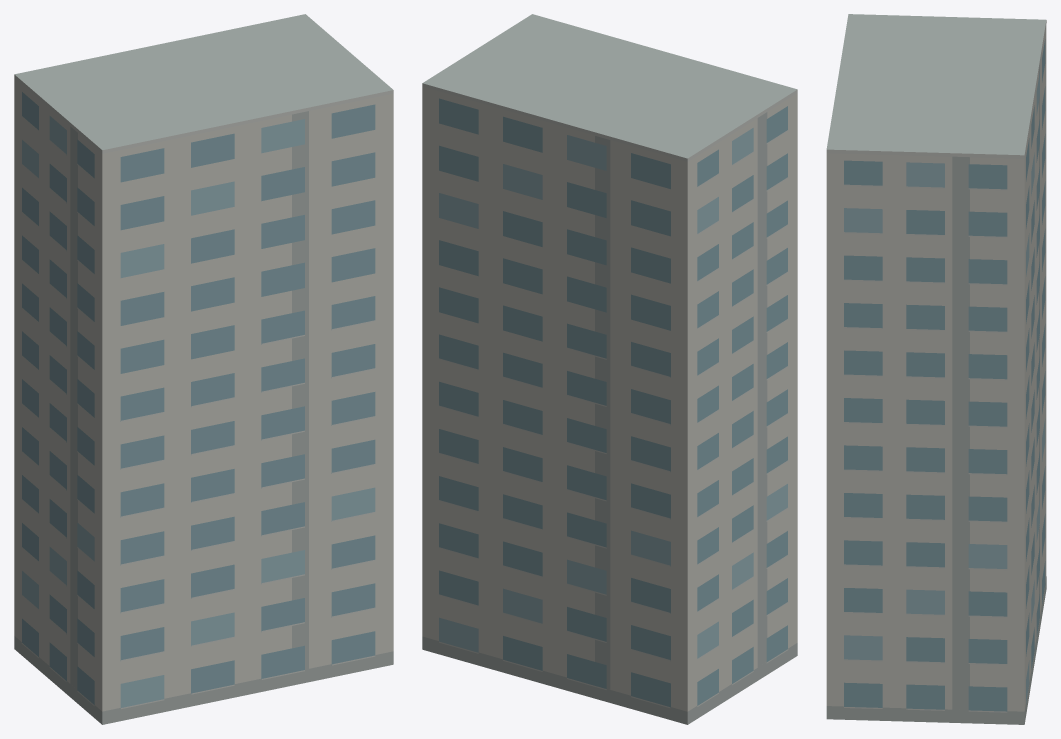
The model's file is residential-9d236943-fba6-4e71-a9d2-bc989749d224.glb.
The picture shows the model from 3 angles, left to right: view 1: azimuth 30°, elevation 25°; view 2: azimuth 150°, elevation 25°; view 3: azimuth 270°, elevation 25°; orthographic projection.
Visible parts, largest first — view 1: residential-9d236943-fba6-4e71-a9d2-bc989749d224.tmp; view 2: residential-9d236943-fba6-4e71-a9d2-bc989749d224.tmp; view 3: residential-9d236943-fba6-4e71-a9d2-bc989749d224.tmp.
Part boxes in pixels (x1=…): residential-9d236943-fba6-4e71-a9d2-bc989749d224.tmp: x1=14, y1=14, x2=393, y2=724; residential-9d236943-fba6-4e71-a9d2-bc989749d224.tmp: x1=422, y1=14, x2=797, y2=724; residential-9d236943-fba6-4e71-a9d2-bc989749d224.tmp: x1=826, y1=14, x2=1046, y2=724.
Bounding box in the file's own units: 21.28 × 40 × 14.
